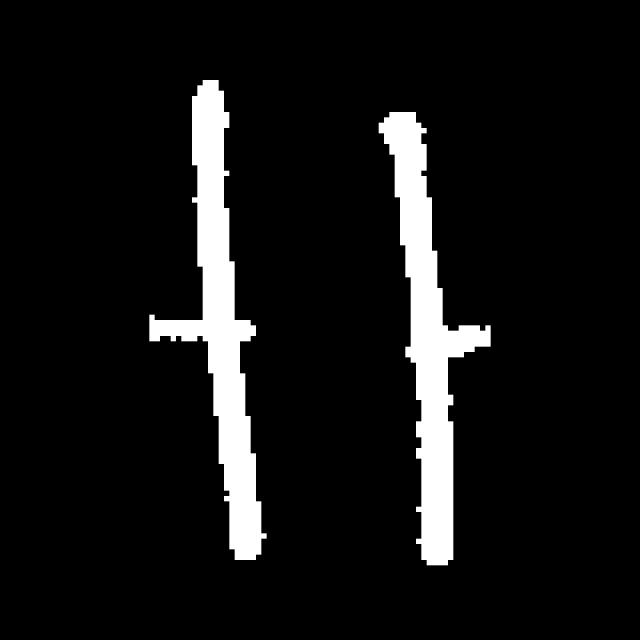capacitor: (195, 54, 464, 572)
